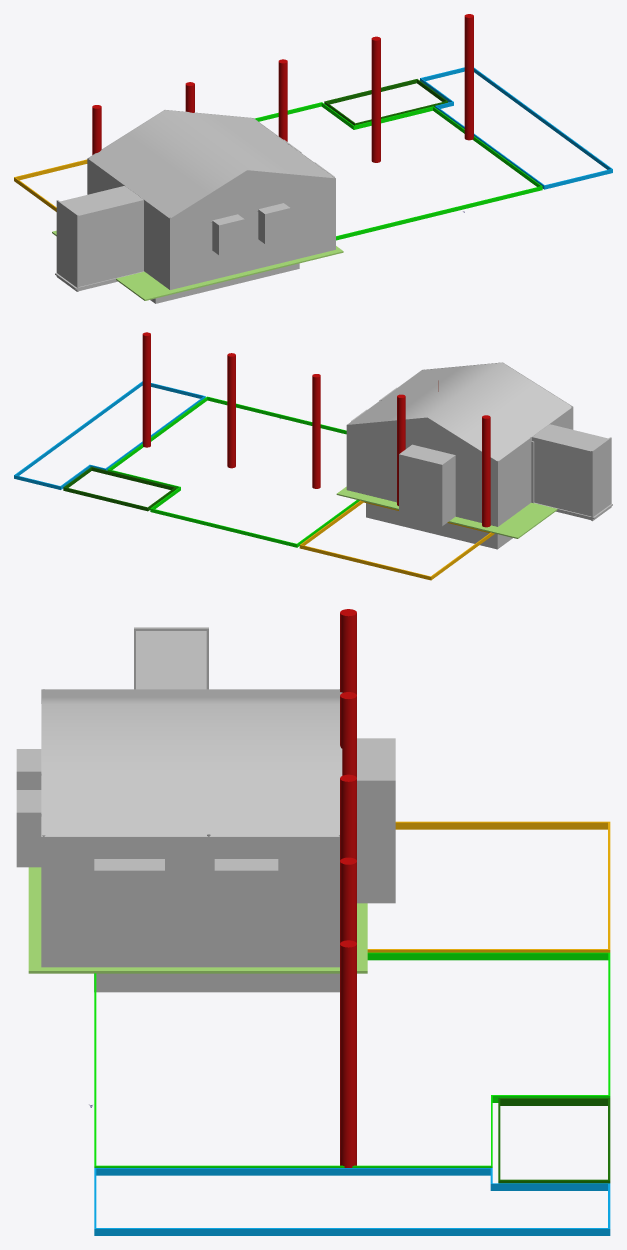
Rendered from TentRemodel_v09.fbx.
The picture shows the model from 3 angles, top to bottom: view 1: azimuth 30°, elevation 25°; view 2: azimuth 150°, elevation 25°; view 3: azimuth 270°, elevation 25°; orthographic projection. The views are drawn at different scales.
Parts seen in each view (by area): view 1: WALLS_TENT, WALLS_TENT.001, SALA_05, FLOOR_1.002, WINDOW_CUTS, FLOOR_1.001, SALA_01; view 2: SALA_05, WALLS_TENT.001, WALLS_TENT, FLOOR_1.002, WINDOW_CUTS, FLOOR_1.001, SALA_01; view 3: WALLS_TENT.001, WALLS_TENT, SALA_05, WINDOW_CUTS, SALA_01, FLOOR_1.002, FLOOR_1.001.
Part boxes in pixels (x1=…): WALLS_TENT: x1=87, y1=109, x2=335, y2=289; WALLS_TENT.001: x1=89, y1=110, x2=333, y2=217; SALA_05: x1=14, y1=14, x2=612, y2=240; FLOOR_1.002: x1=55, y1=186, x2=143, y2=291; WINDOW_CUTS: x1=212, y1=139, x2=334, y2=255; FLOOR_1.001: x1=52, y1=230, x2=343, y2=300; SALA_01: x1=150, y1=263, x2=299, y2=303; SALA_05: x1=14, y1=332, x2=494, y2=580; WALLS_TENT.001: x1=348, y1=362, x2=571, y2=460; WALLS_TENT: x1=346, y1=362, x2=573, y2=526; FLOOR_1.002: x1=532, y1=424, x2=612, y2=521; WINDOW_CUTS: x1=351, y1=387, x2=534, y2=526; FLOOR_1.001: x1=336, y1=486, x2=557, y2=538; SALA_01: x1=366, y1=503, x2=512, y2=549; WALLS_TENT.001: x1=42, y1=690, x2=341, y2=836; WALLS_TENT: x1=41, y1=689, x2=342, y2=967; SALA_05: x1=94, y1=609, x2=610, y2=1235; WINDOW_CUTS: x1=16, y1=738, x2=395, y2=925; SALA_01: x1=94, y1=973, x2=339, y2=992; FLOOR_1.002: x1=134, y1=627, x2=208, y2=689; FLOOR_1.001: x1=28, y1=867, x2=367, y2=973.
Size of the model in its own units: 1981 by 515 by 1061.
